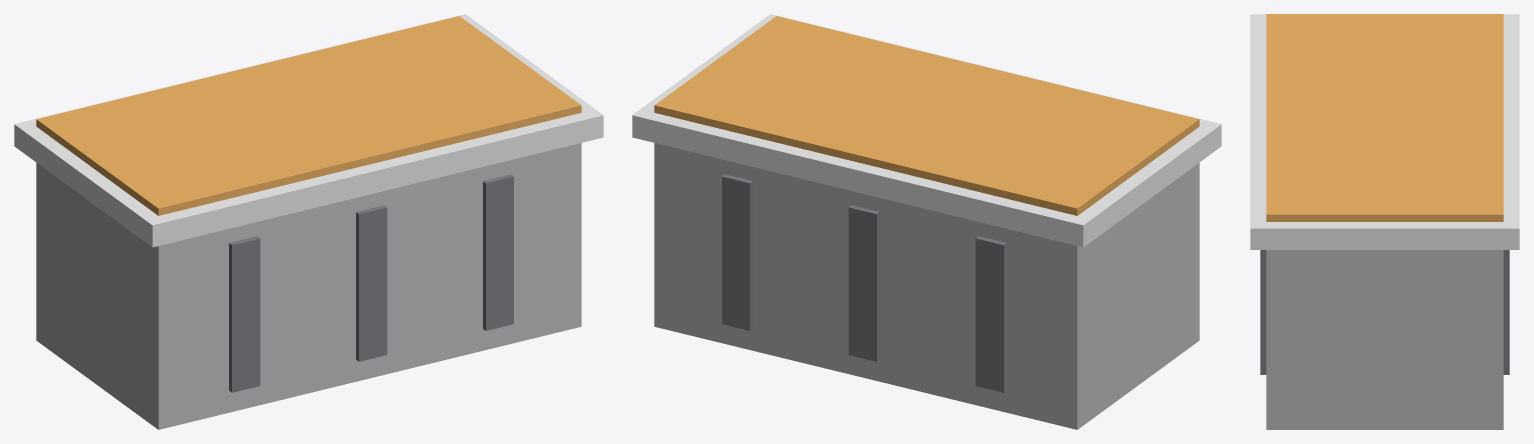
File: modular-greybox-architecture-kit-cover-block-low-03a07e8a__22908.glb
The picture shows the model from 3 angles, left to right: view 1: azimuth 30°, elevation 25°; view 2: azimuth 150°, elevation 25°; view 3: azimuth 270°, elevation 25°; orthographic projection. The views are drawn at different scales.
Parts seen in each view (by area): view 1: cover-block-low; view 2: cover-block-low; view 3: cover-block-low.
Boxes of the visible parts, bbox=[...] form: cover-block-low: bbox=[14, 14, 603, 429]; cover-block-low: bbox=[632, 14, 1221, 429]; cover-block-low: bbox=[1250, 14, 1519, 429].
Bounding box in the file's own units: 1.28 × 0.6 × 0.6799.
